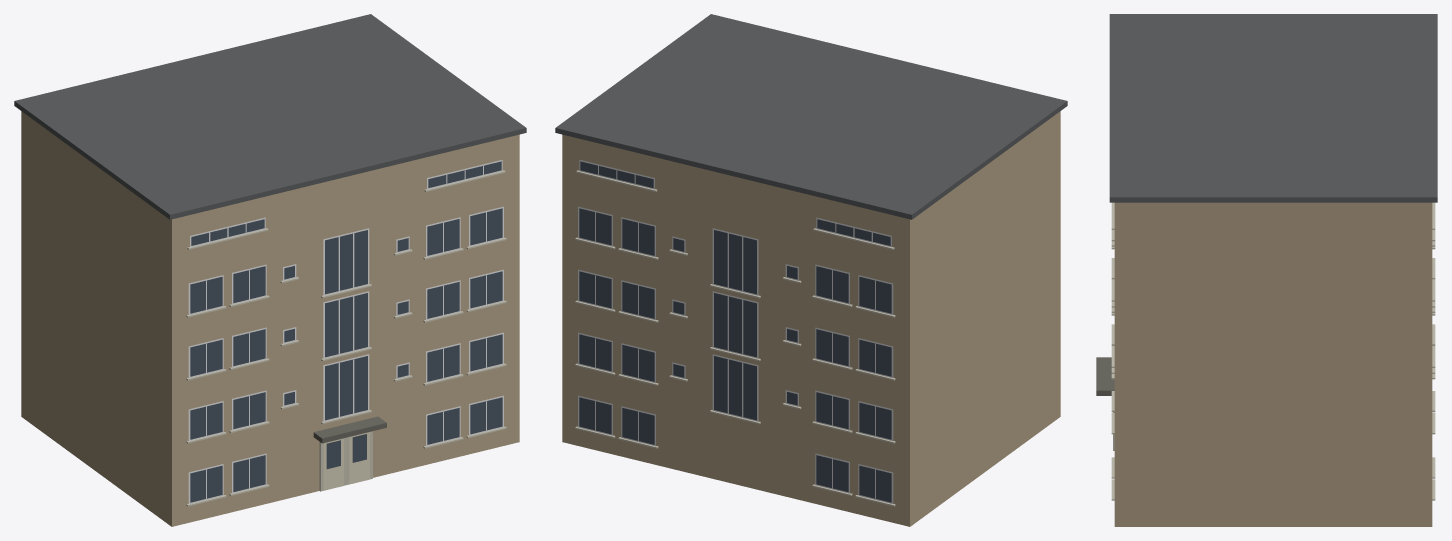
The model's file is nw-glazed-tower-buff-flat__buff-brick__5__flat__long__solid.glb.
3 views of the same model, side by side, from view 1: azimuth 30°, elevation 25°; view 2: azimuth 150°, elevation 25°; view 3: azimuth 270°, elevation 25° (orthographic). The views are drawn at different scales.
Parts seen in each view (by area): view 1: nw-glazed-tower-buff-flat__buff-brick__5__flat__long__solid; view 2: nw-glazed-tower-buff-flat__buff-brick__5__flat__long__solid; view 3: nw-glazed-tower-buff-flat__buff-brick__5__flat__long__solid.
Boxes of the visible parts, x1=… form: nw-glazed-tower-buff-flat__buff-brick__5__flat__long__solid: x1=14, y1=14, x2=526, y2=526; nw-glazed-tower-buff-flat__buff-brick__5__flat__long__solid: x1=555, y1=14, x2=1067, y2=526; nw-glazed-tower-buff-flat__buff-brick__5__flat__long__solid: x1=1096, y1=14, x2=1437, y2=526.
Bounding box in the file's own units: 16.54 × 13.96 × 13.01.
